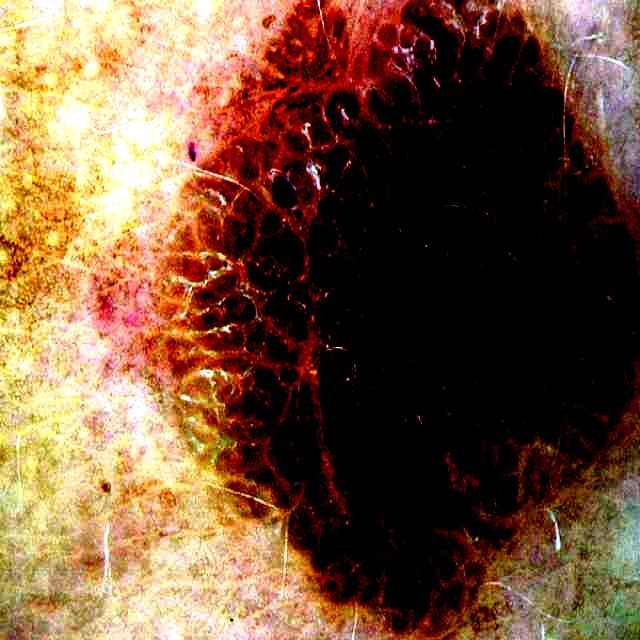BKL: (166, 1, 640, 629)
